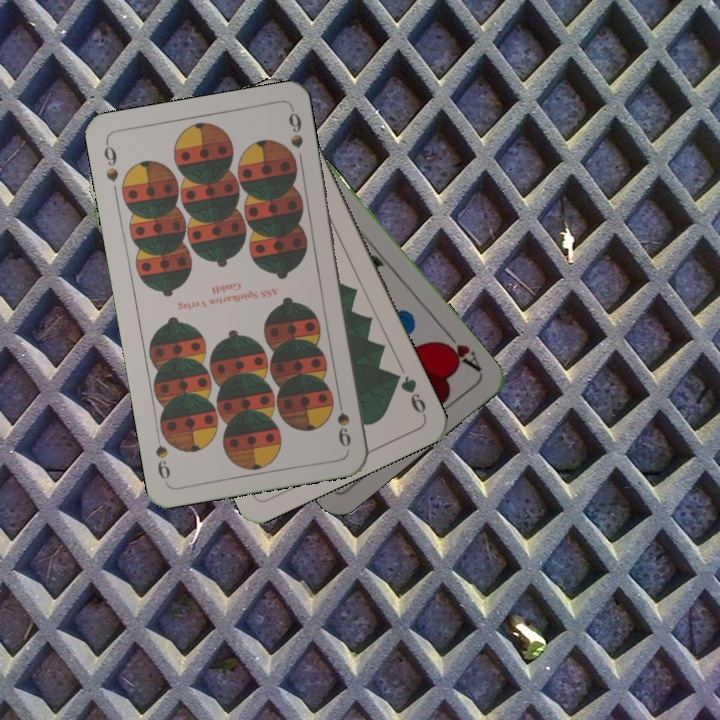G9: (388, 368, 429, 419)
HA: (436, 325, 484, 375)
S9: (333, 391, 354, 450), (100, 137, 121, 185)
